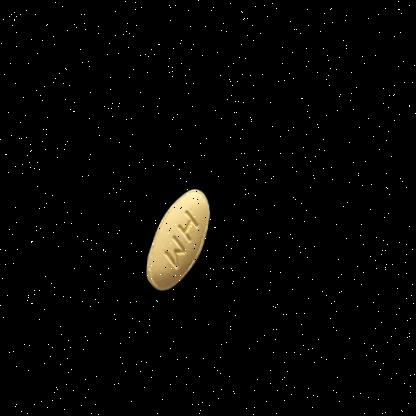tovast10: (121, 156, 239, 316)
